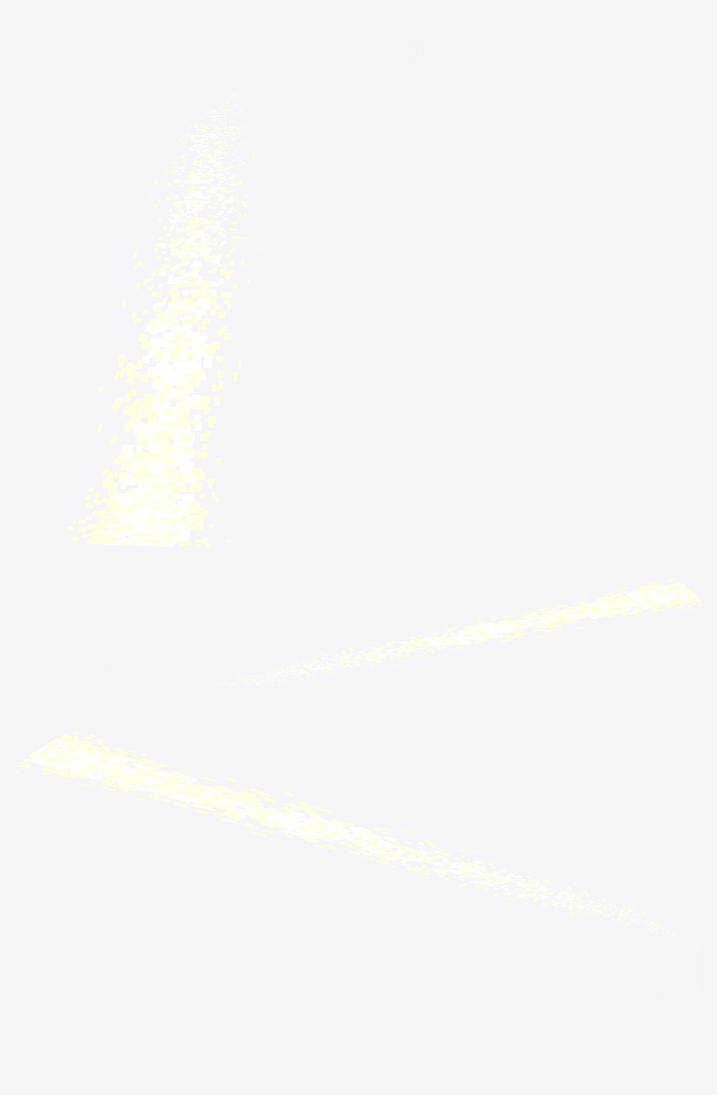
File: glitter.glb
The picture shows the model from 3 angles, top to bottom: view 1: azimuth 30°, elevation 25°; view 2: azimuth 150°, elevation 25°; view 3: azimuth 270°, elevation 25°; orthographic projection. The views are drawn at different scales.
Visible parts, largest first — view 1: glitter_0_web, glitter_2_web, glitter_3_web; view 2: glitter_0_web, glitter_2_web, glitter_3_web; view 3: glitter_0_web, glitter_2_web, glitter_3_web.
Boxes of the visible parts, x1,y1,x2,y2 form: glitter_0_web: (78,78,261,546); glitter_2_web: (66,76,264,545); glitter_3_web: (72,78,264,546); glitter_0_web: (185,575,700,689); glitter_2_web: (196,579,702,687); glitter_3_web: (203,579,701,688); glitter_0_web: (14,735,699,944); glitter_2_web: (20,731,699,948); glitter_3_web: (19,734,696,945).
Size of what is drawn, in the model's own units: 1190 by 0.01 by 993.
